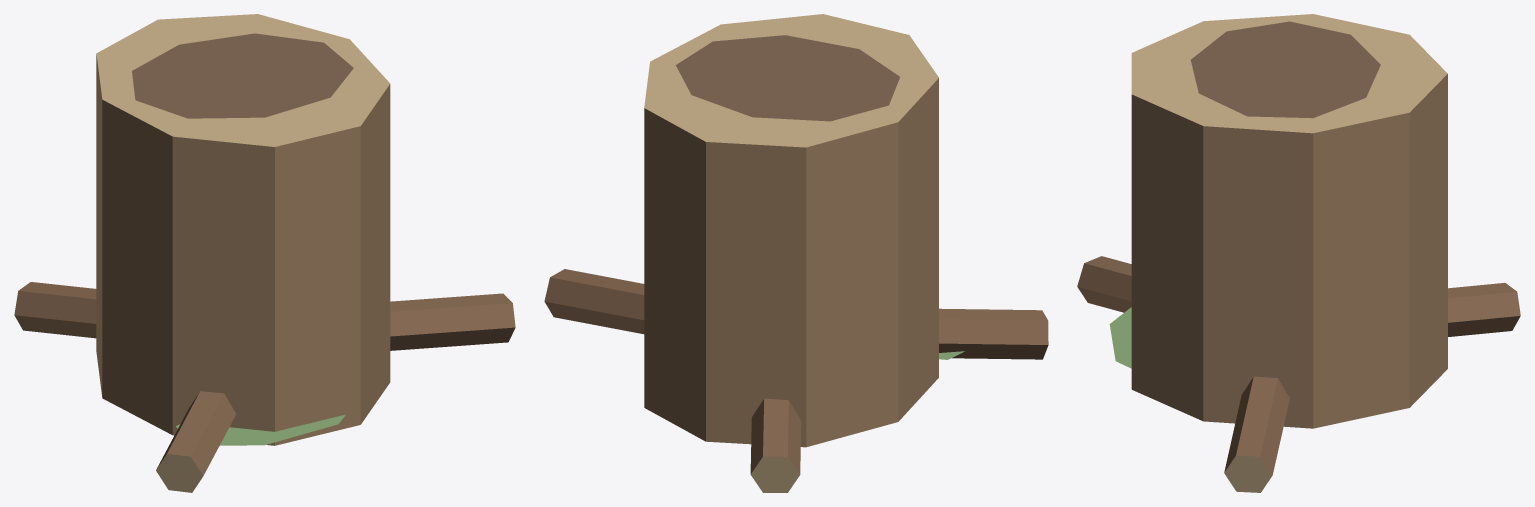
The model's file is debris_stump_small.glb.
The picture shows the model from 3 angles, left to right: view 1: azimuth 30°, elevation 25°; view 2: azimuth 150°, elevation 25°; view 3: azimuth 270°, elevation 25°; orthographic projection.
Visible parts, largest first — view 1: debris_stump_small; view 2: debris_stump_small; view 3: debris_stump_small.
Boxes of the visible parts, left/top/right/bottom form: debris_stump_small: left=14, top=14, right=515, bottom=492; debris_stump_small: left=544, top=14, right=1048, bottom=492; debris_stump_small: left=1077, top=14, right=1520, bottom=492.
Bounding box in the file's own units: 0.4731 × 0.3287 × 0.4357.
